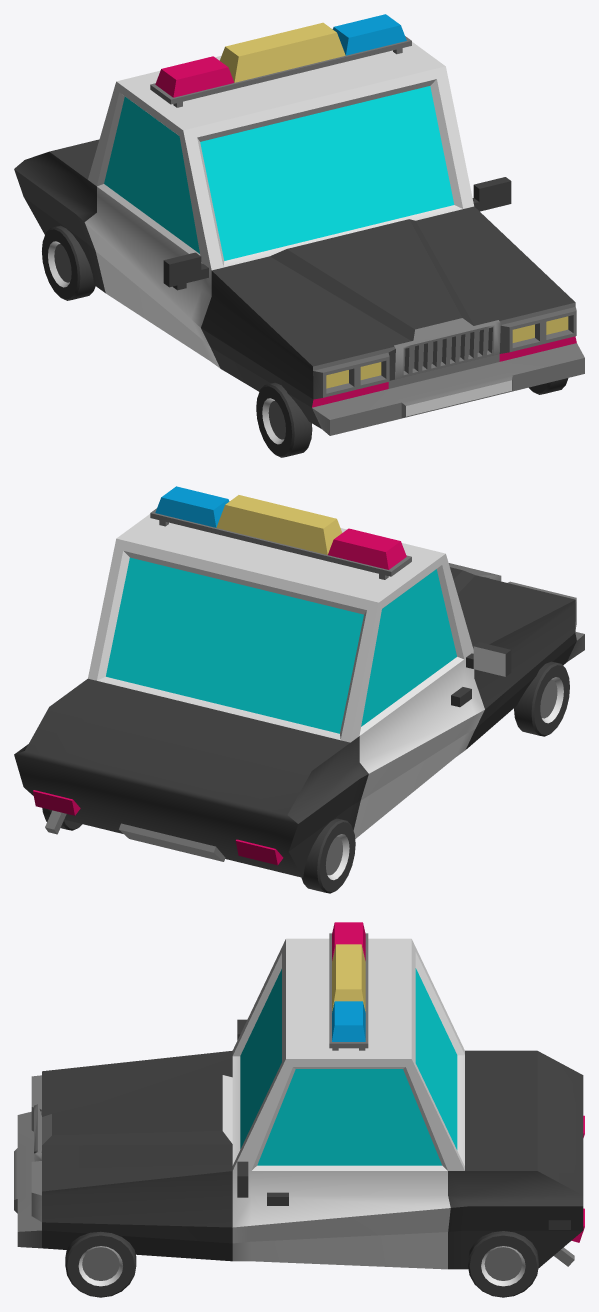
The model's file is copCar.fbx.
The picture shows the model from 3 angles, top to bottom: view 1: azimuth 30°, elevation 25°; view 2: azimuth 150°, elevation 25°; view 3: azimuth 270°, elevation 25°; orthographic projection. The views are drawn at different scales.
Parts seen in each view (by area): view 1: copCar; view 2: copCar; view 3: copCar.
Boxes of the visible parts, x1,y1,x2,y2 form: copCar: [14, 14, 584, 457]; copCar: [14, 486, 584, 893]; copCar: [14, 922, 584, 1297].
Size of the model in its own units: 36.93 by 29.45 by 56.86.
